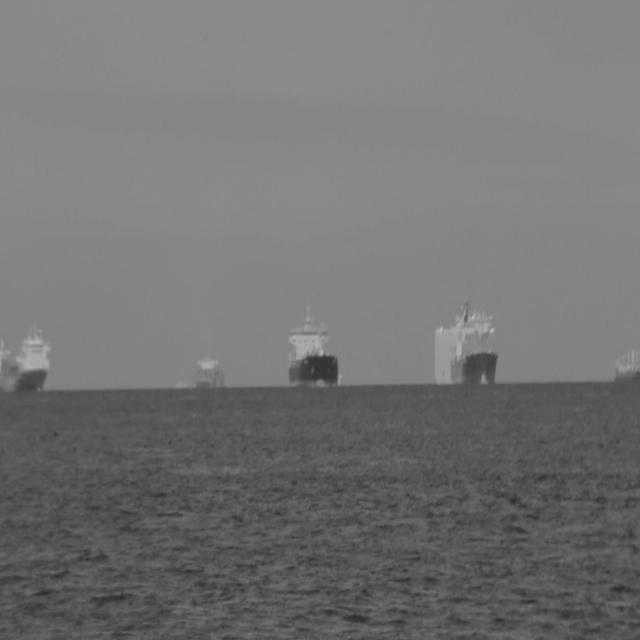ship: (288, 306, 340, 386), (454, 300, 499, 388), (1, 326, 51, 394), (433, 328, 459, 387)
